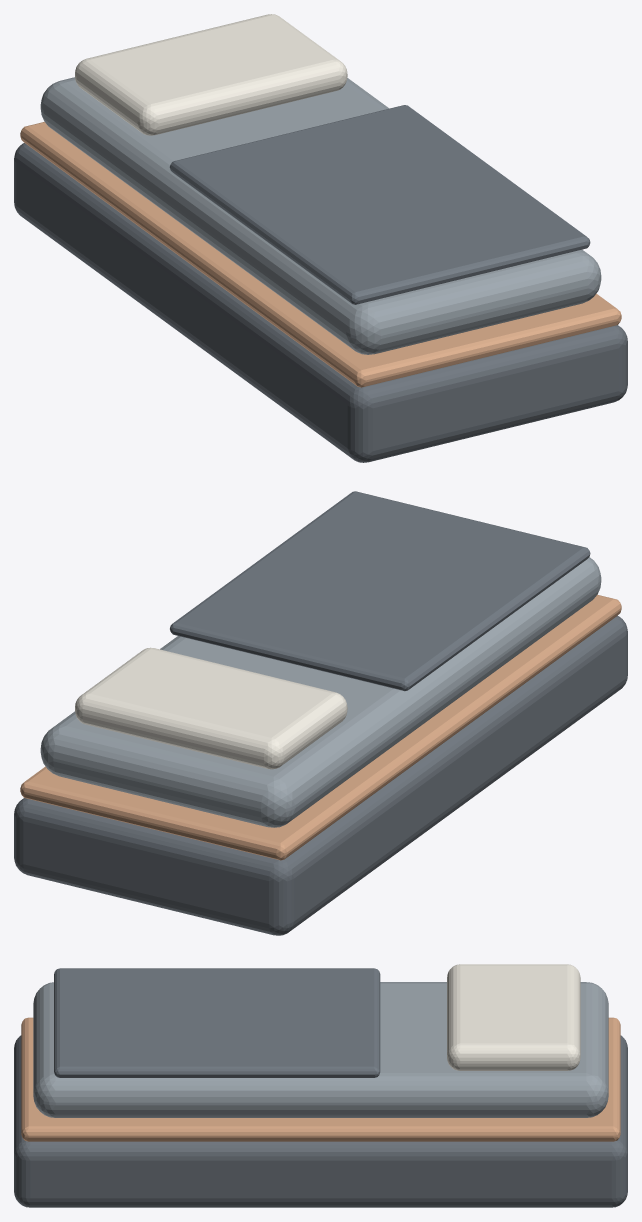
The model's file is crew_bed.glb.
3 renders of one model, top to bottom at view 1: azimuth 30°, elevation 25°; view 2: azimuth 150°, elevation 25°; view 3: azimuth 270°, elevation 25°, orthographic. The views are drawn at different scales.
Visible parts, largest first — view 1: shell_001, shell_005, shell_003, shell_004, shell_002; view 2: shell_001, shell_005, shell_003, shell_004, shell_002; view 3: shell_001, shell_005, shell_003, shell_002, shell_004.
Part boxes in pixels (left/top/right/bottom): shell_001: left=14, top=143, right=627, bottom=462; shell_005: left=169, top=105, right=590, bottom=304; shell_003: left=40, top=77, right=601, bottom=354; shell_004: left=75, top=14, right=347, bottom=135; shell_002: left=20, top=122, right=621, bottom=387; shell_001: left=14, top=615, right=627, bottom=935; shell_005: left=170, top=491, right=590, bottom=691; shell_003: left=40, top=557, right=601, bottom=827; shell_004: left=75, top=647, right=347, bottom=769; shell_002: left=20, top=594, right=621, bottom=860; shell_001: left=14, top=1035, right=627, bottom=1207; shell_005: left=54, top=968, right=380, bottom=1077; shell_003: left=33, top=982, right=608, bottom=1117; shell_002: left=21, top=1017, right=620, bottom=1141; shell_004: left=447, top=964, right=580, bottom=1070.
Size of the model in its own units: 0.95 by 0.555 by 2.07.
